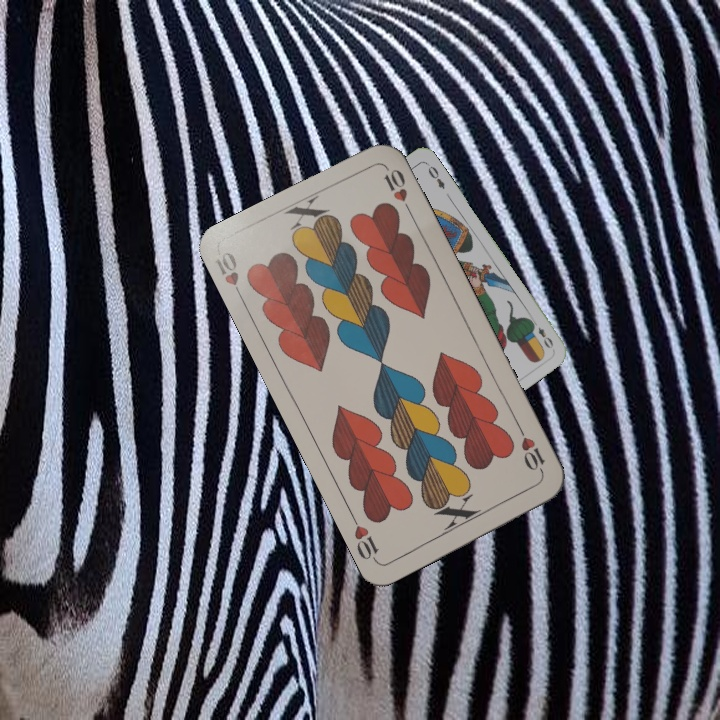EO: (527, 315, 556, 351)
H10: (211, 247, 247, 305), (514, 423, 548, 478)
